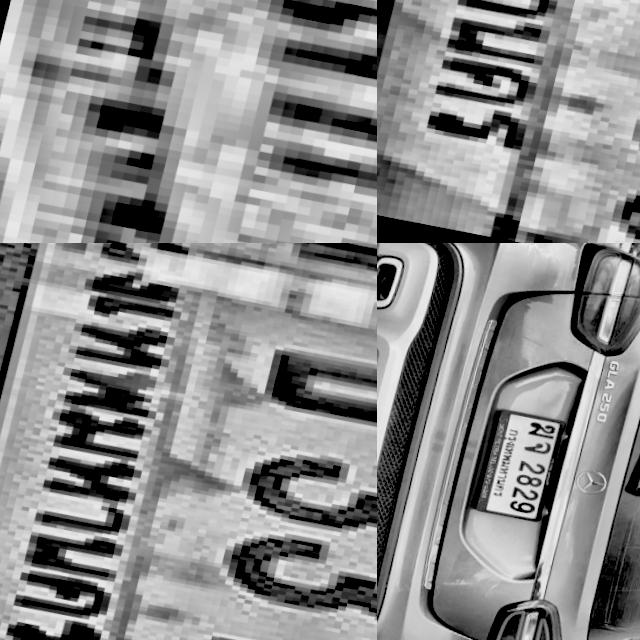license-plate: (0, 243, 377, 640), (0, 0, 377, 243), (377, 0, 640, 243), (476, 406, 573, 525)
